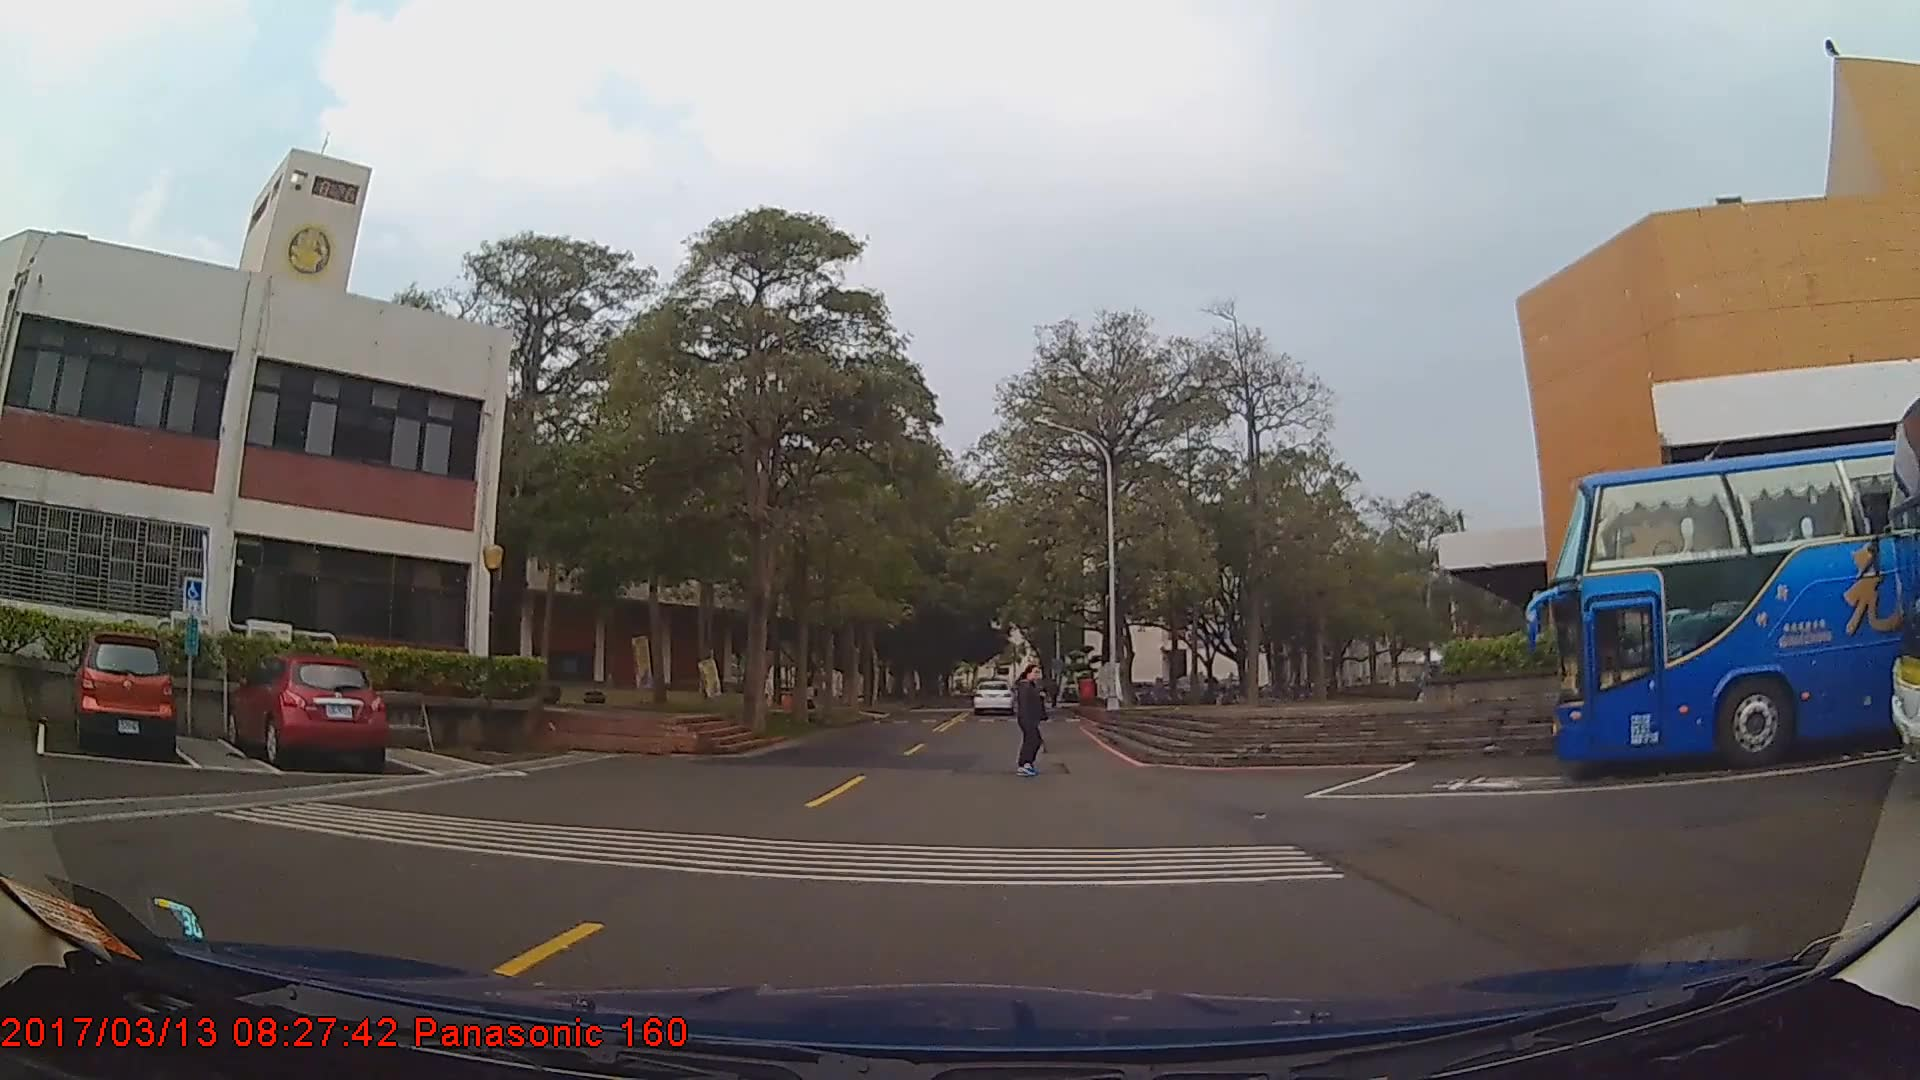pedestrian: (999, 661, 1062, 780)
vehicle: (1553, 428, 1920, 775), (221, 656, 384, 771), (70, 633, 174, 752), (973, 674, 1013, 712)
